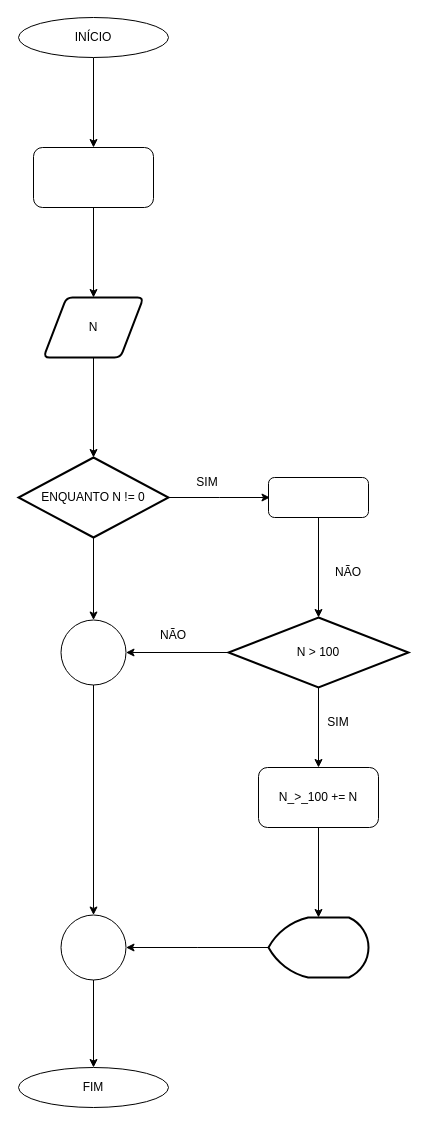
Image size: 426x1125. Some labels were removed from this diagram. Each missing label, with the centre of its shape:
"N++" goes at pixel 318 497.
"N_>_100" goes at pixel 318 947.
"N_>_100 = 0" goes at pixel 93 177.
